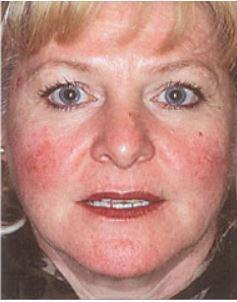Drunk: (16, 12, 223, 272)
